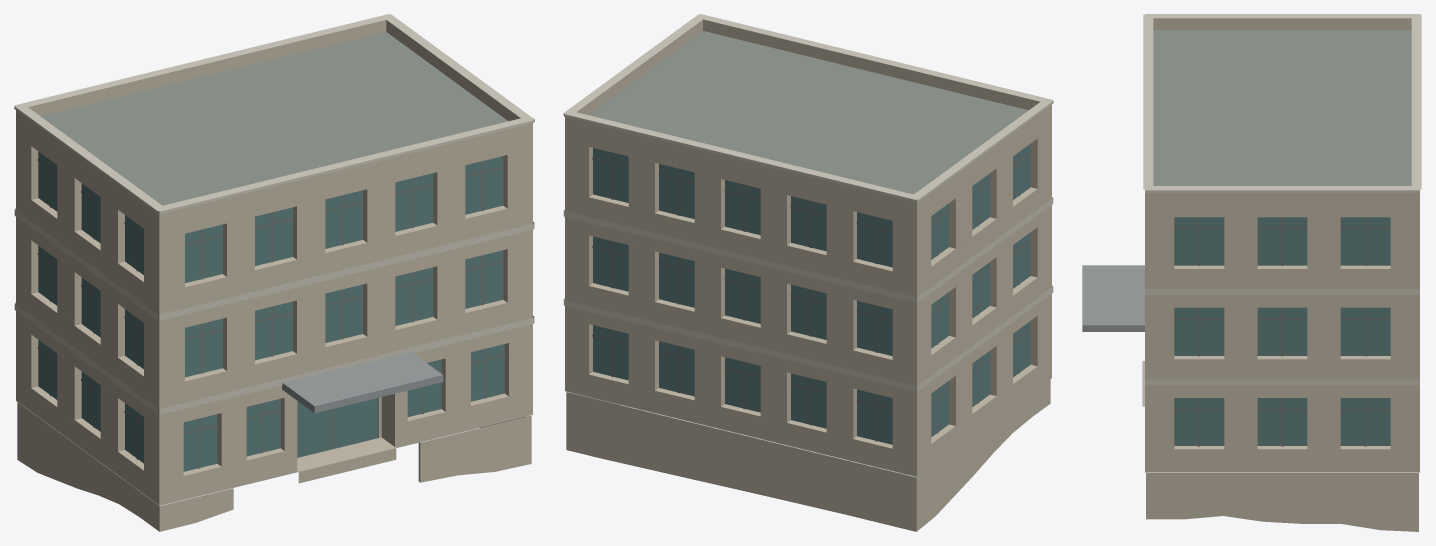
3 views of the same model, side by side, from view 1: azimuth 30°, elevation 25°; view 2: azimuth 150°, elevation 25°; view 3: azimuth 270°, elevation 25° (orthographic). The views are drawn at different scales.
Visible parts, largest first — view 1: osm672438757__wall, osm672438757__roof, osm672438757__glass, osm672438757__trim, osm672438757__foundationSkirt, osm672438757__parapet, osm672438757__canopy, osm672438757__frame, osm672438757__entranceThreshold_0; view 2: osm672438757__wall, osm672438757__roof, osm672438757__glass, osm672438757__foundationSkirt, osm672438757__trim, osm672438757__parapet, osm672438757__frame; view 3: osm672438757__wall, osm672438757__roof, osm672438757__glass, osm672438757__foundationSkirt, osm672438757__trim, osm672438757__parapet, osm672438757__canopy, osm672438757__frame.
Part boxes in pixels (box(x1,y1,x2,y2)): osm672438757__wall: box(16, 118, 532, 505); osm672438757__roof: box(16, 32, 532, 505); osm672438757__glass: box(38, 151, 504, 471); osm672438757__trim: box(14, 14, 534, 414); osm672438757__foundationSkirt: box(17, 402, 531, 531); osm672438757__parapet: box(16, 20, 532, 222); osm672438757__canopy: box(282, 352, 443, 413); osm672438757__frame: box(37, 159, 505, 468); osm672438757__entranceThreshold_0: box(297, 437, 396, 483); osm672438757__wall: box(565, 112, 1051, 476); osm672438757__roof: box(565, 31, 1051, 477); osm672438757__glass: box(593, 144, 1030, 444); osm672438757__foundationSkirt: box(566, 379, 1050, 531); osm672438757__trim: box(563, 14, 1053, 391); osm672438757__parapet: box(565, 19, 1051, 210); osm672438757__frame: box(592, 150, 1031, 441); osm672438757__wall: box(1145, 201, 1419, 471); osm672438757__roof: box(1145, 30, 1419, 472); osm672438757__glass: box(1174, 217, 1390, 445); osm672438757__foundationSkirt: box(1146, 473, 1418, 531); osm672438757__trim: box(1143, 14, 1421, 385); osm672438757__parapet: box(1145, 18, 1419, 201); osm672438757__canopy: box(1082, 265, 1144, 331); osm672438757__frame: box(1174, 217, 1390, 446).
Bounding box in the file's own units: 14.66 × 13.29 × 11.93.
